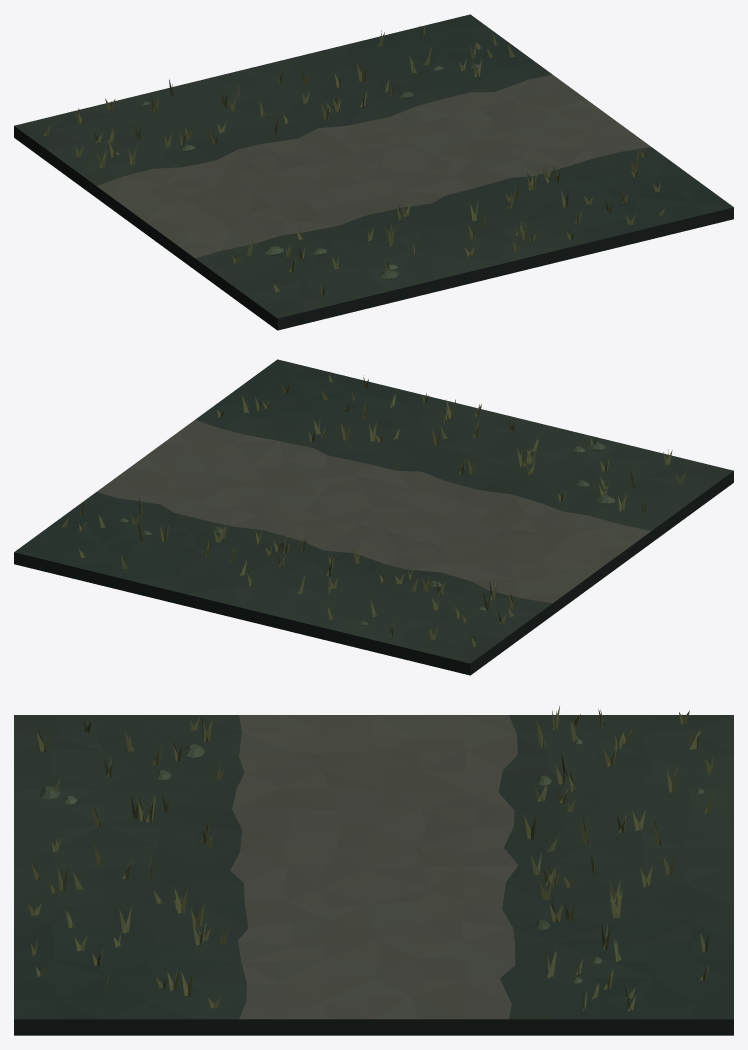
File: CHUNK_TRANS_dark_canopy_forest__bell_mire__0.glb
3 views of the same model, one above another, from view 1: azimuth 30°, elevation 25°; view 2: azimuth 150°, elevation 25°; view 3: azimuth 270°, elevation 25° (orthographic). The views are drawn at different scales.
Parts seen in each view (by area): view 1: CHUNK_TRANS_dark_canopy_forest__bell_mire__0; view 2: CHUNK_TRANS_dark_canopy_forest__bell_mire__0; view 3: CHUNK_TRANS_dark_canopy_forest__bell_mire__0.
Boxes of the visible parts, left/top/right/bottom form: CHUNK_TRANS_dark_canopy_forest__bell_mire__0: left=14, top=14, right=733, bottom=330; CHUNK_TRANS_dark_canopy_forest__bell_mire__0: left=14, top=359, right=733, bottom=675; CHUNK_TRANS_dark_canopy_forest__bell_mire__0: left=14, top=706, right=733, bottom=1035.
Size of the model in its own units: 8 by 0.5541 by 8.
